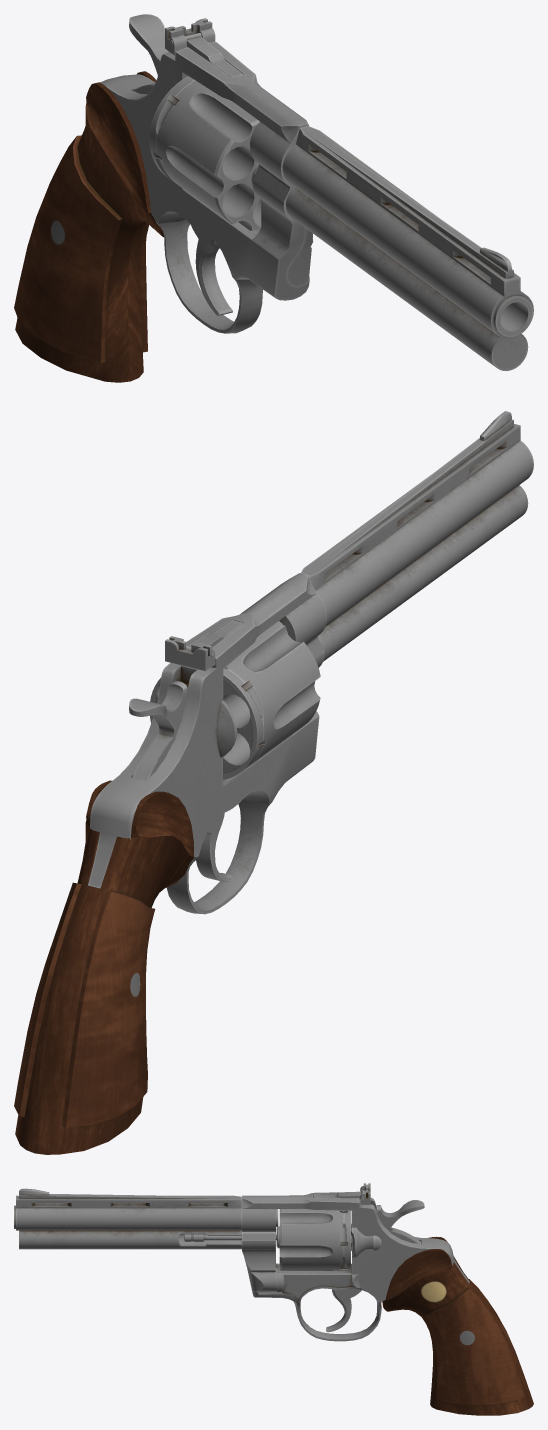
3 views of the same model, one above another, from view 1: azimuth 30°, elevation 25°; view 2: azimuth 150°, elevation 25°; view 3: azimuth 270°, elevation 25° (orthographic). The views are drawn at different scales.
Visible parts, largest first — view 1: Body_M_WP_Revolver; view 2: Body_M_WP_Revolver; view 3: Body_M_WP_Revolver.
Boxes of the visible parts, box(x1,y1,x2,y2) form: Body_M_WP_Revolver: box(14, 14, 533, 382); Body_M_WP_Revolver: box(14, 411, 533, 1154); Body_M_WP_Revolver: box(14, 1183, 533, 1415).
Bounding box in the file's own units: 0.0377 × 0.1329 × 0.29.
1 material, 1 textured.
